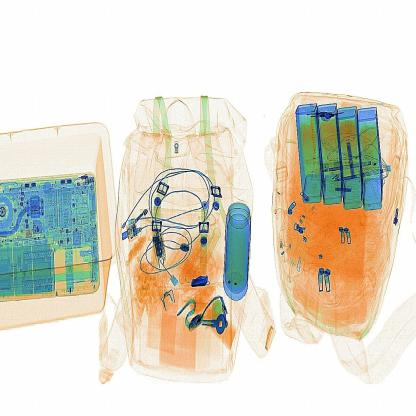knife: (188, 274, 209, 291)
